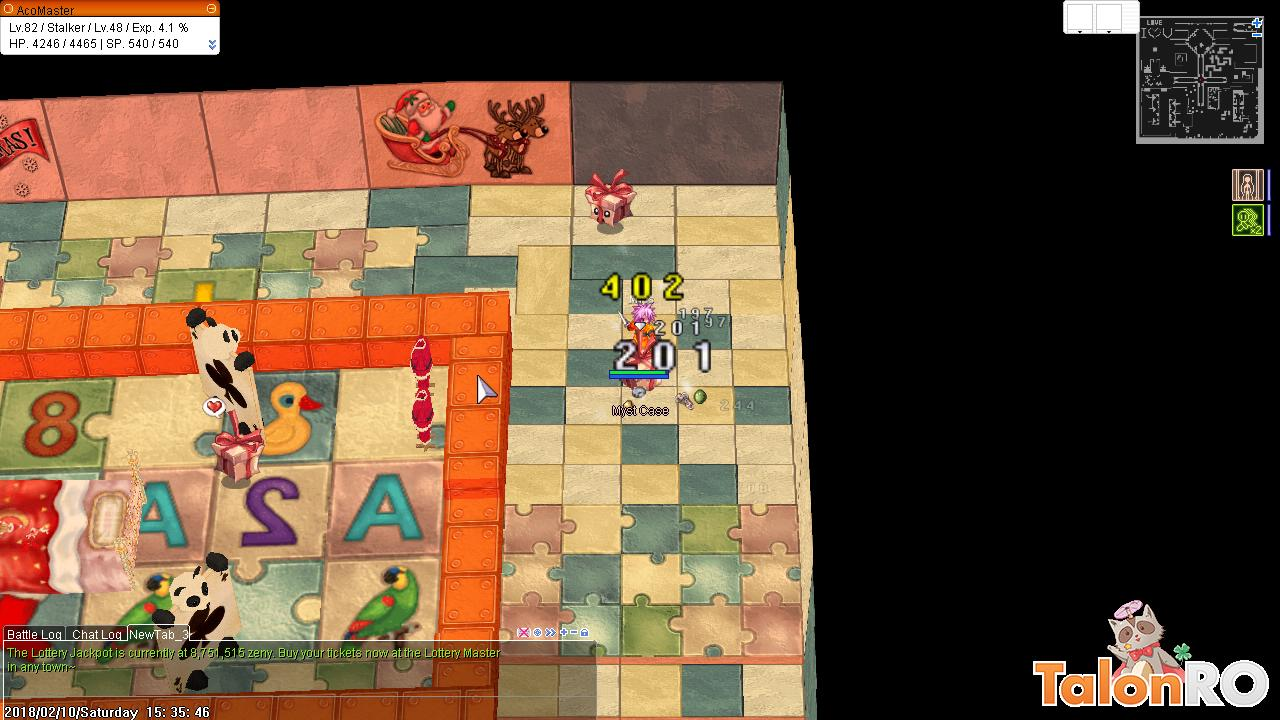loot: (694, 388, 709, 410), (675, 392, 693, 408), (632, 384, 646, 400)
myst_case: (209, 406, 267, 487), (585, 166, 639, 234)
